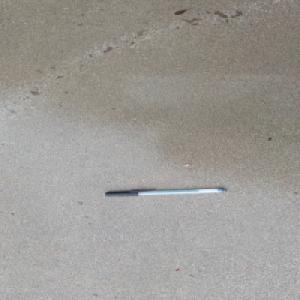Pen: (104, 187, 228, 198)
